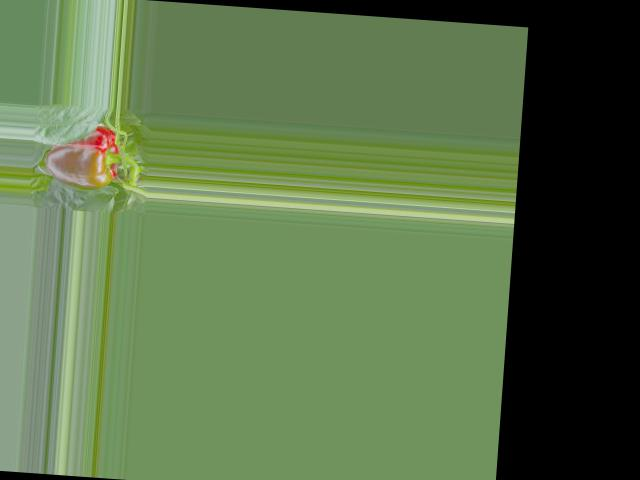bell_pepper: (38, 119, 130, 198)
